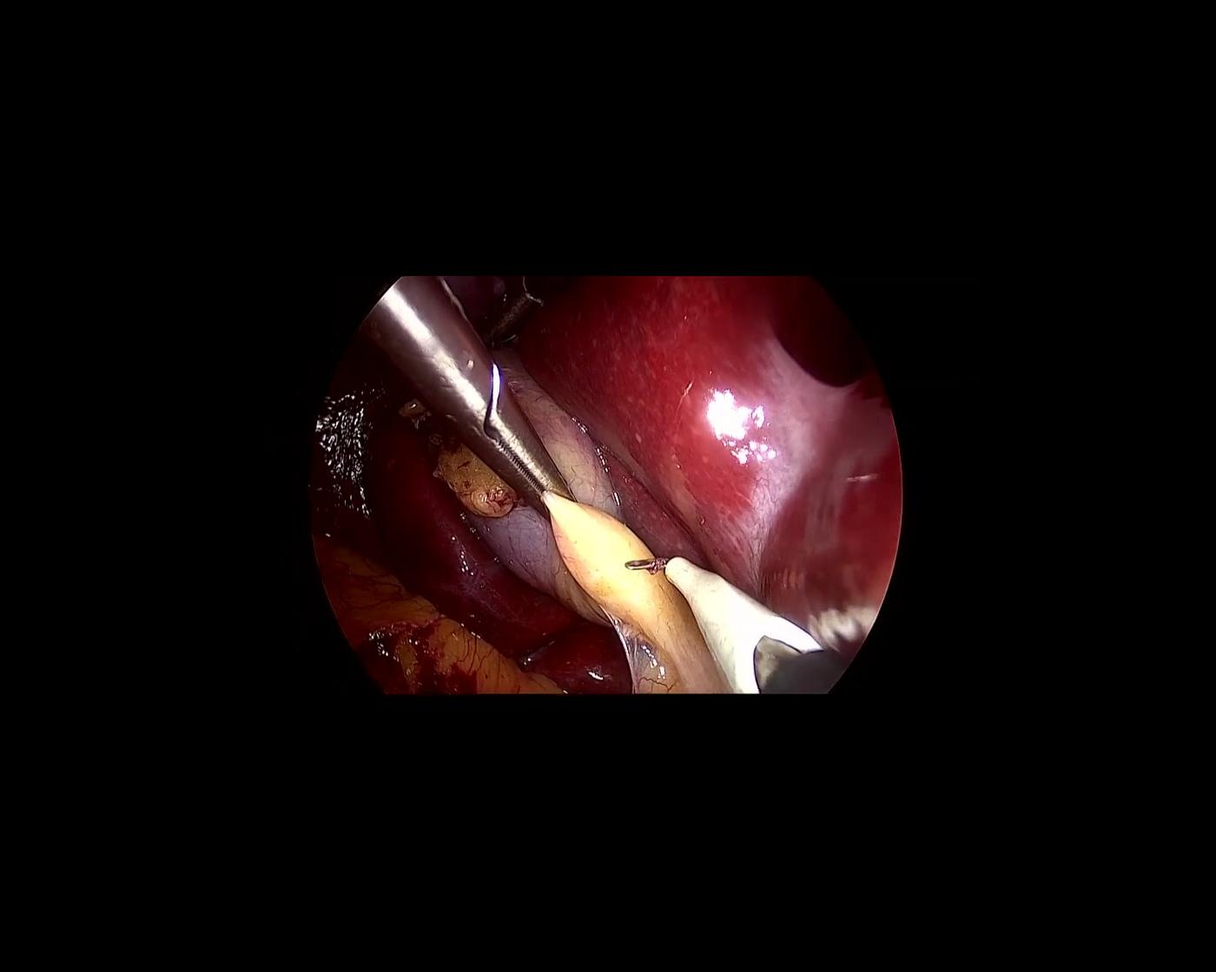Cautery: (600, 531, 847, 735)
Forceps: (350, 255, 612, 549)
Gallbladder: (387, 312, 689, 671)
Liver: (487, 162, 1004, 724), (235, 328, 651, 783)
